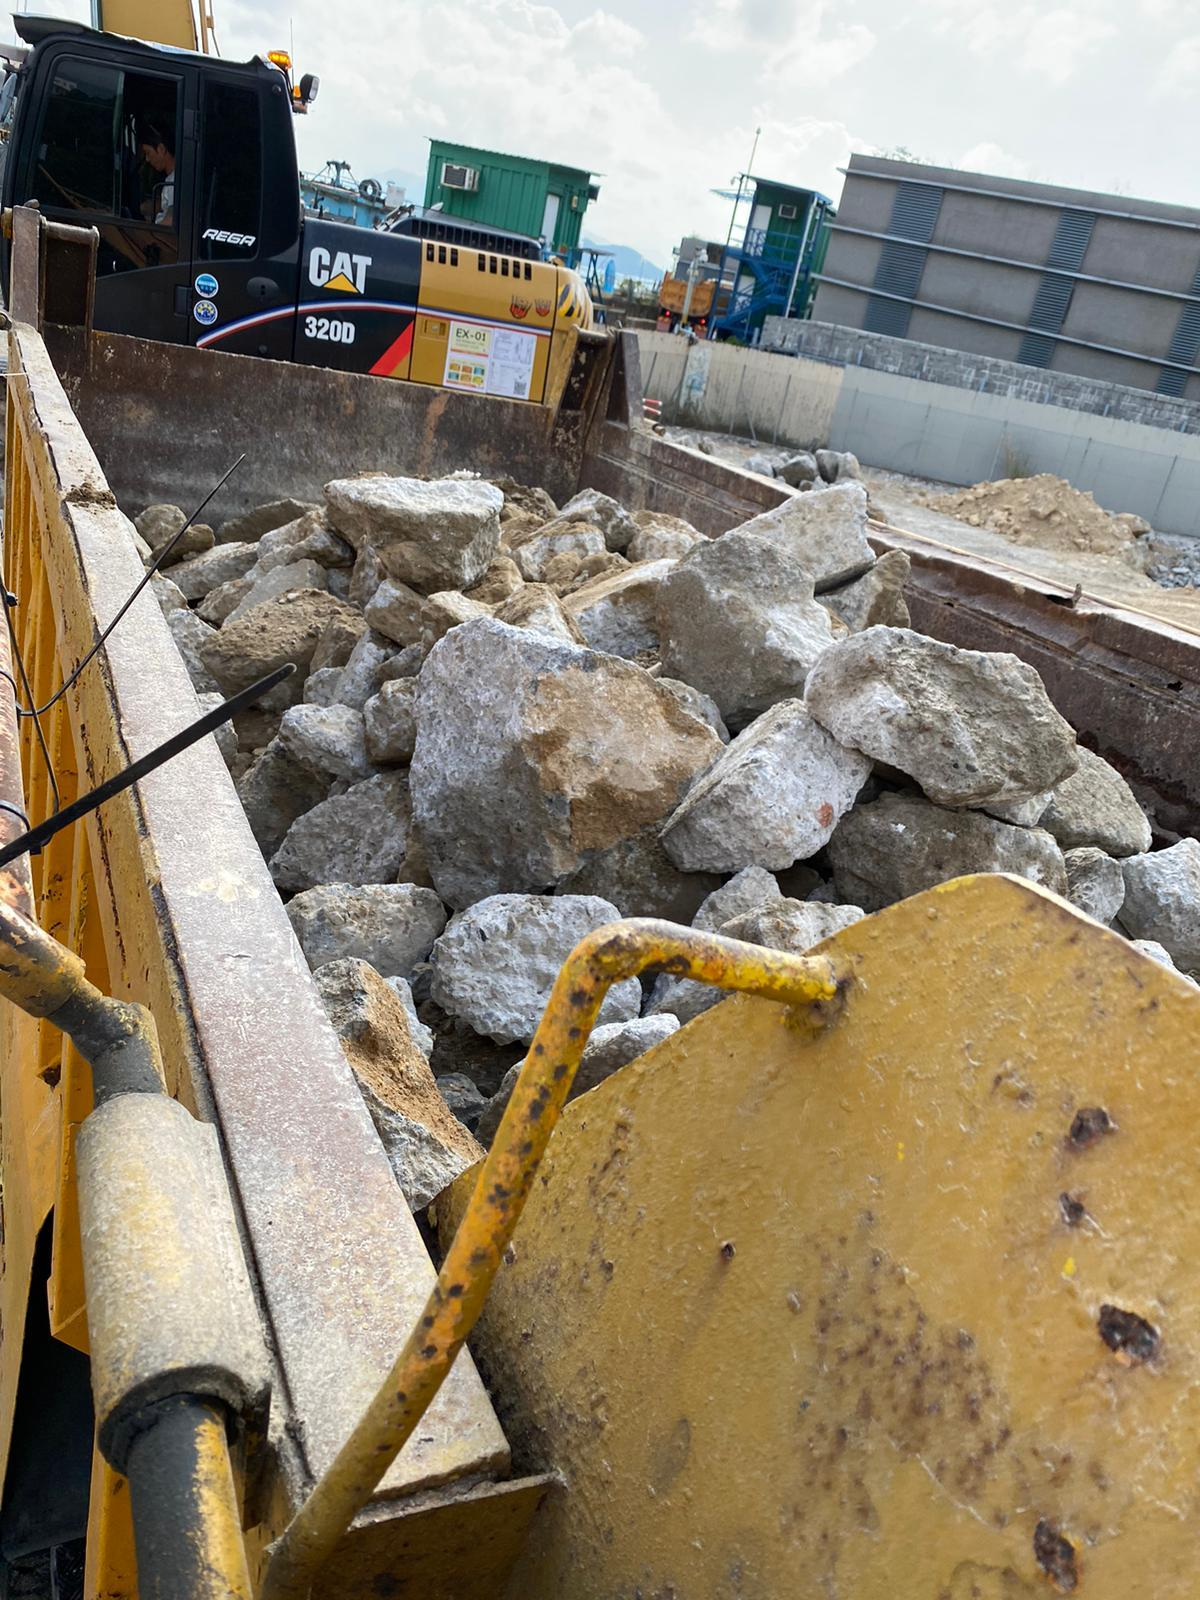dry: (153, 483, 1195, 1170)
